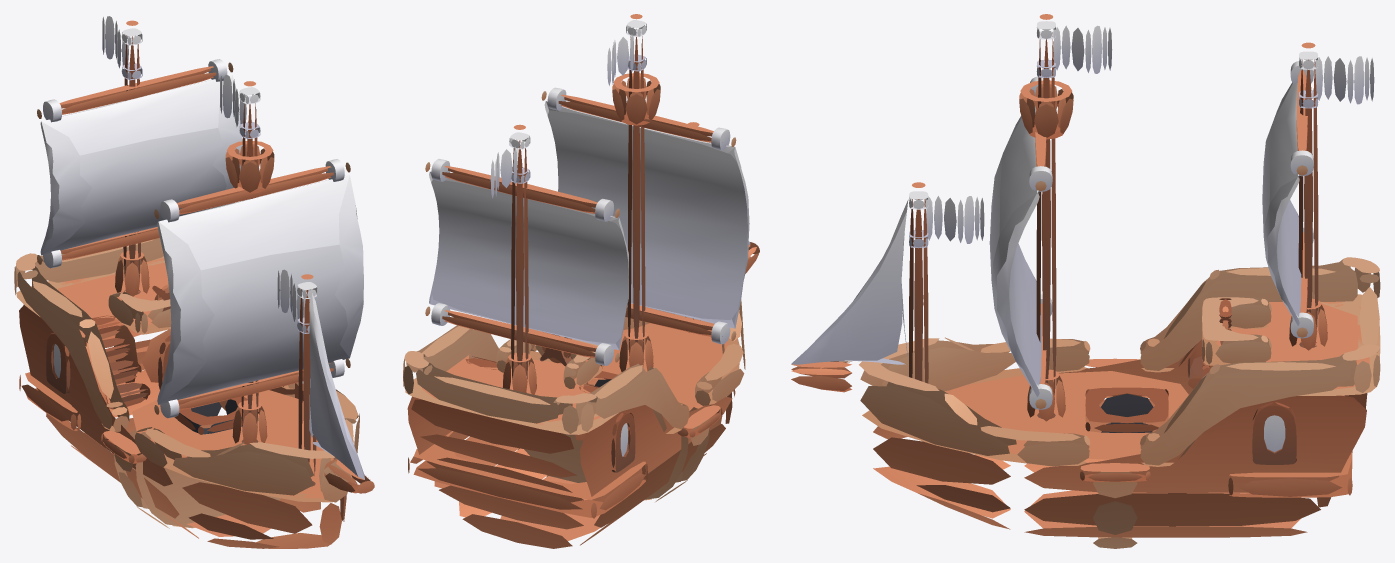
File: ship-medium.glb
The picture shows the model from 3 angles, left to right: view 1: azimuth 30°, elevation 25°; view 2: azimuth 150°, elevation 25°; view 3: azimuth 270°, elevation 25°; orthographic projection. The views are drawn at different scales.
Parts seen in each view (by area): view 1: ship-medium, sail-a, sail-b, flag-b, flag-c, flag-a; view 2: ship-medium, sail-a, sail-b, flag-c, flag-b; view 3: ship-medium, sail-a, sail-b, flag-b, flag-c, flag-a.
Part boxes in pixels (x1=…): ship-medium: x1=14, y1=20, x2=374, y2=548; sail-a: x1=154, y1=159, x2=363, y2=418; sail-b: x1=37, y1=59, x2=242, y2=268; flag-b: x1=220, y1=75, x2=260, y2=138; flag-c: x1=102, y1=16, x2=142, y2=80; flag-a: x1=277, y1=269, x2=317, y2=333; ship-medium: x1=403, y1=14, x2=759, y2=548; sail-a: x1=541, y1=87, x2=749, y2=344; sail-b: x1=425, y1=159, x2=628, y2=365; flag-c: x1=490, y1=132, x2=530, y2=198; flag-b: x1=607, y1=20, x2=646, y2=85; ship-medium: x1=791, y1=14, x2=1380, y2=548; sail-a: x1=989, y1=76, x2=1052, y2=409; sail-b: x1=1262, y1=60, x2=1313, y2=338; flag-b: x1=1036, y1=21, x2=1112, y2=77; flag-c: x1=1299, y1=51, x2=1374, y2=108; flag-a: x1=909, y1=191, x2=984, y2=248.
Bounding box in the file's own units: 4.8 × 9.96 × 10.6.
Materials: 1 (1 with a texture image).
